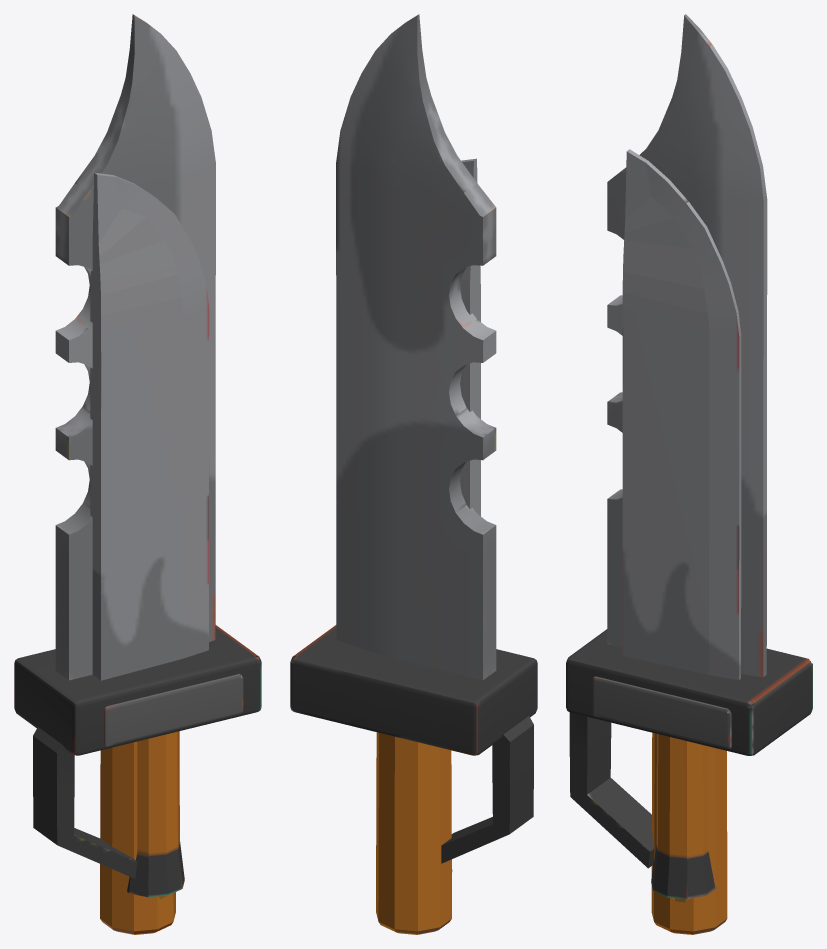
Rendered from knife.fbx.
3 views of the same model, side by side, from view 1: azimuth 30°, elevation 25°; view 2: azimuth 150°, elevation 25°; view 3: azimuth 330°, elevation 25° (orthographic).
Parts seen in each view (by area): view 1: Knife_1, Knife; view 2: Knife, Knife_1; view 3: Knife_1, Knife.
Part boxes in pixels (x1,y1,x2,y2): Knife_1: (33,172,243,898); Knife: (14,14,261,934); Knife: (290,14,537,934); Knife_1: (441,158,533,871); Knife_1: (569,149,741,902); Knife: (566,14,812,934).
Bounding box in the file's own units: 127 × 567 × 72.59.
